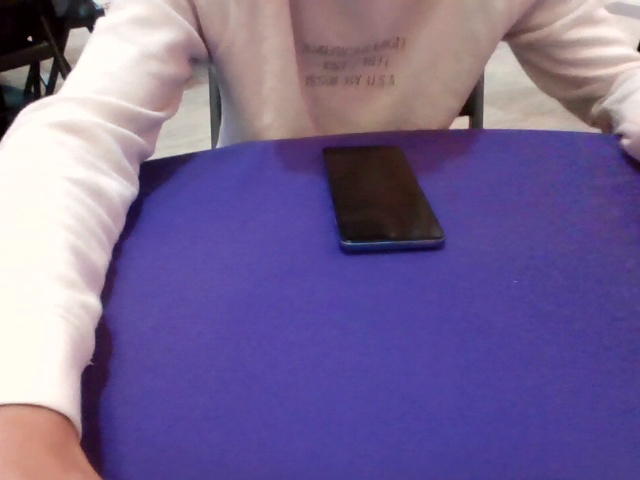celular: (322, 145, 447, 255)
